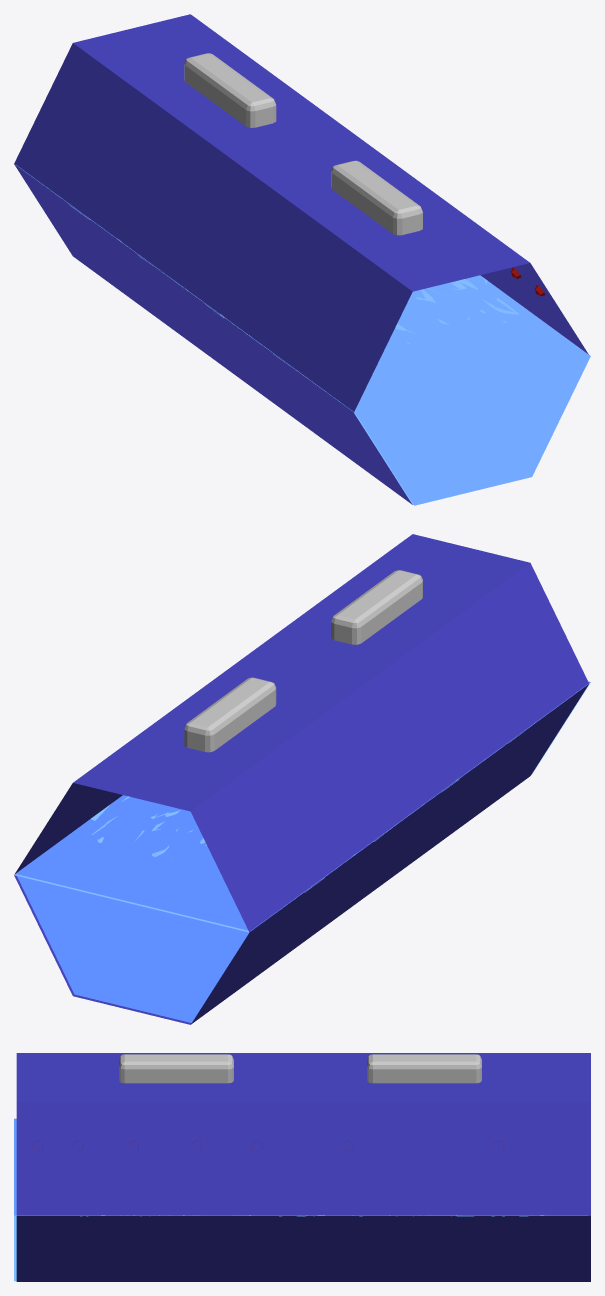
Rendered from tunnel.fbx.
3 views of the same model, one above another, from view 1: azimuth 30°, elevation 25°; view 2: azimuth 150°, elevation 25°; view 3: azimuth 270°, elevation 25° (orthographic). The views are drawn at different scales.
Visible parts, largest first — view 1: Walls, Water, Cube_1, Cube, WaterSurface; view 2: Walls, Water, Cube_1, Cube, WaterSurface; view 3: Walls, Cube_1, Cube, Water.
Boxes of the visible parts, x1,y1,x2,y2 form: Walls: (14, 14, 588, 504); Water: (16, 165, 590, 505); Cube_1: (184, 53, 276, 127); Cube: (331, 160, 422, 235); WaterSurface: (70, 205, 531, 370); Walls: (14, 534, 588, 1024); Water: (16, 681, 590, 1022); Cube_1: (184, 677, 276, 752); Cube: (331, 570, 422, 644); WaterSurface: (14, 732, 523, 932); Walls: (16, 1053, 590, 1281); Cube_1: (367, 1054, 481, 1083); Cube: (119, 1054, 233, 1083); Water: (14, 1118, 587, 1281).
Bounding box in the file's own units: 400 × 383 × 1005.
